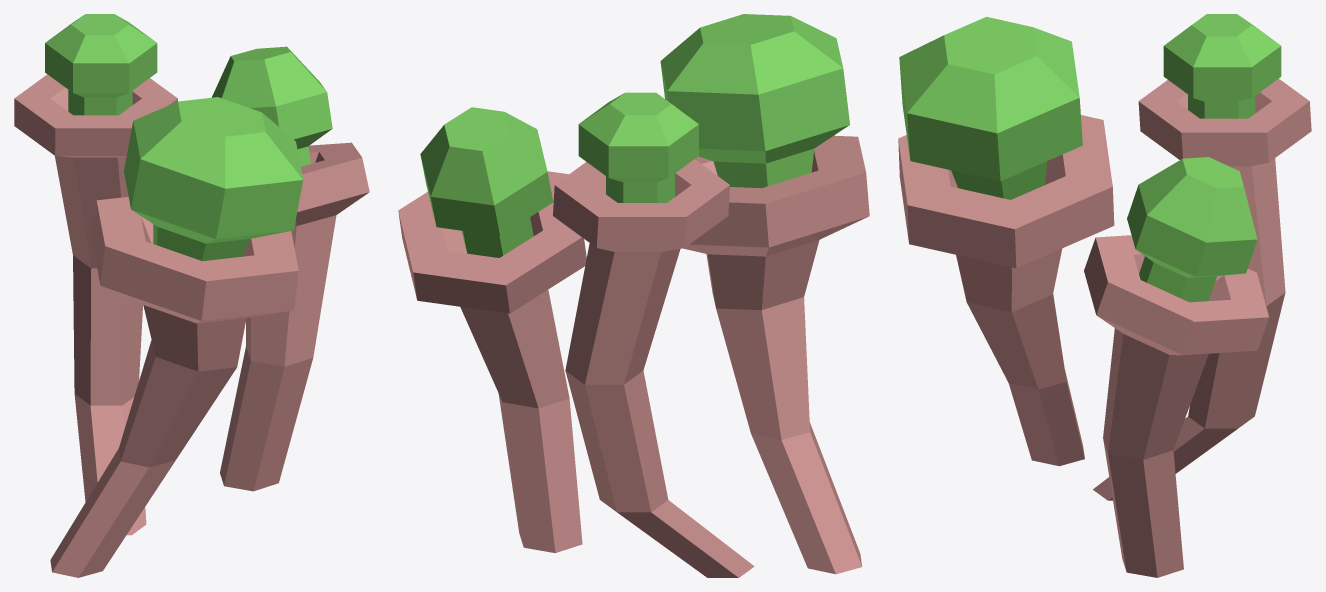
File: voynich6.fbx
3 views of the same model, side by side, from view 1: azimuth 30°, elevation 25°; view 2: azimuth 150°, elevation 25°; view 3: azimuth 270°, elevation 25° (orthographic). The views are drawn at different scales.
Parts seen in each view (by area): view 1: Plant, Fruit; view 2: Plant, Fruit; view 3: Plant, Fruit.
Boxes of the visible parts, <box> form: Plant: <box>14,74,369,577</box>; Fruit: <box>45,14,332,261</box>; Plant: <box>398,135,869,577</box>; Fruit: <box>420,14,849,257</box>; Plant: <box>898,78,1311,577</box>; Fruit: <box>899,14,1281,302</box>.
Size of the model in its own units: 0.7238 by 0.862 by 0.6725.
